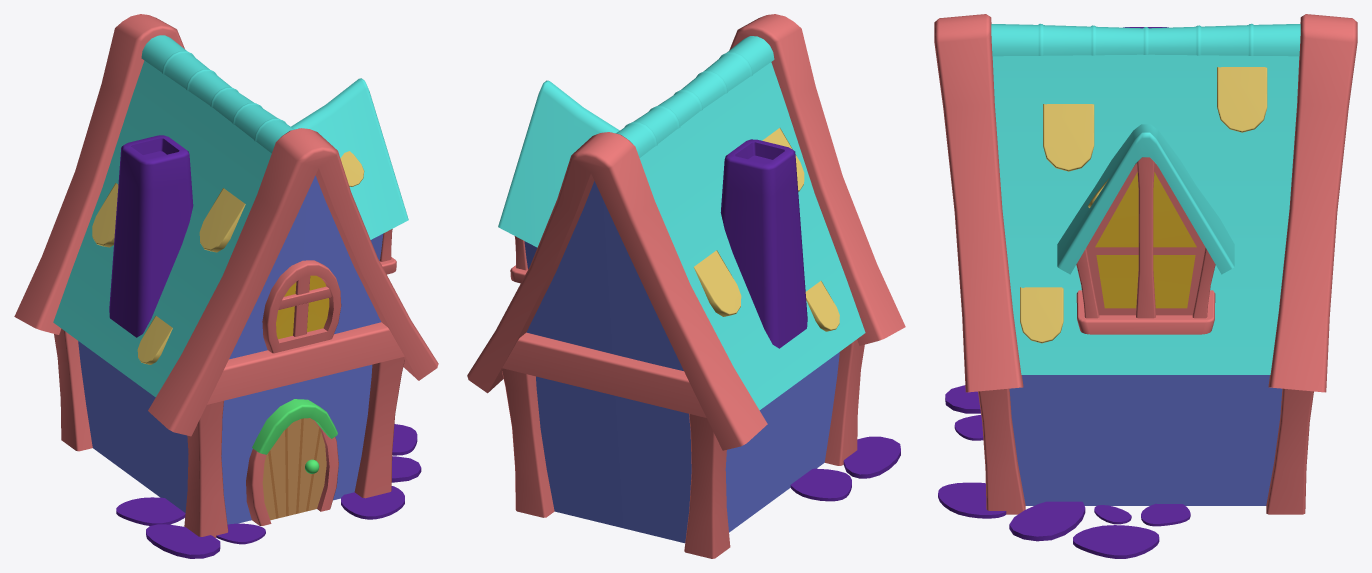
Rendered from House_03_lvl.fbx.
3 renders of one model, left to right at view 1: azimuth 30°, elevation 25°; view 2: azimuth 150°, elevation 25°; view 3: azimuth 270°, elevation 25°, orthographic. The views are drawn at different scales.
Parts seen in each view (by area): view 1: Circle.005; view 2: Circle.005; view 3: Circle.005.
Part boxes in pixels (x1=…): Circle.005: x1=14, y1=14, x2=438, y2=558; Circle.005: x1=467, y1=14, x2=905, y2=558; Circle.005: x1=934, y1=14, x2=1357, y2=558.
Bounding box in the file's own units: 607 × 726 × 628.
